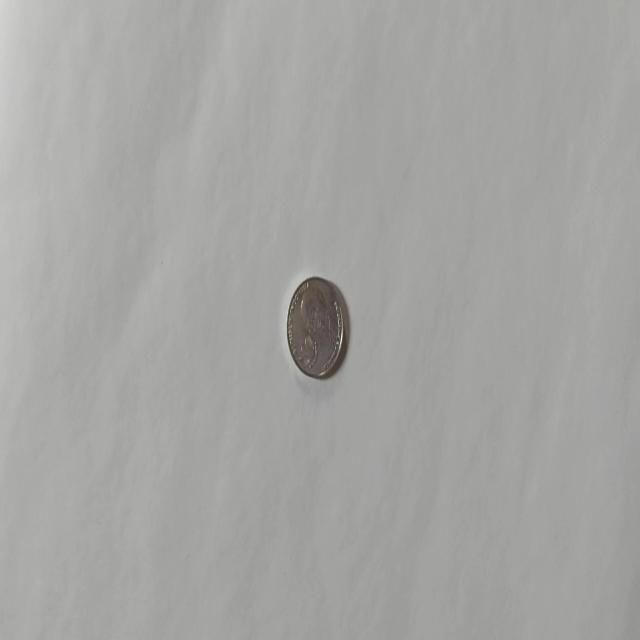lima ratus rupiah: (286, 274, 344, 380)
